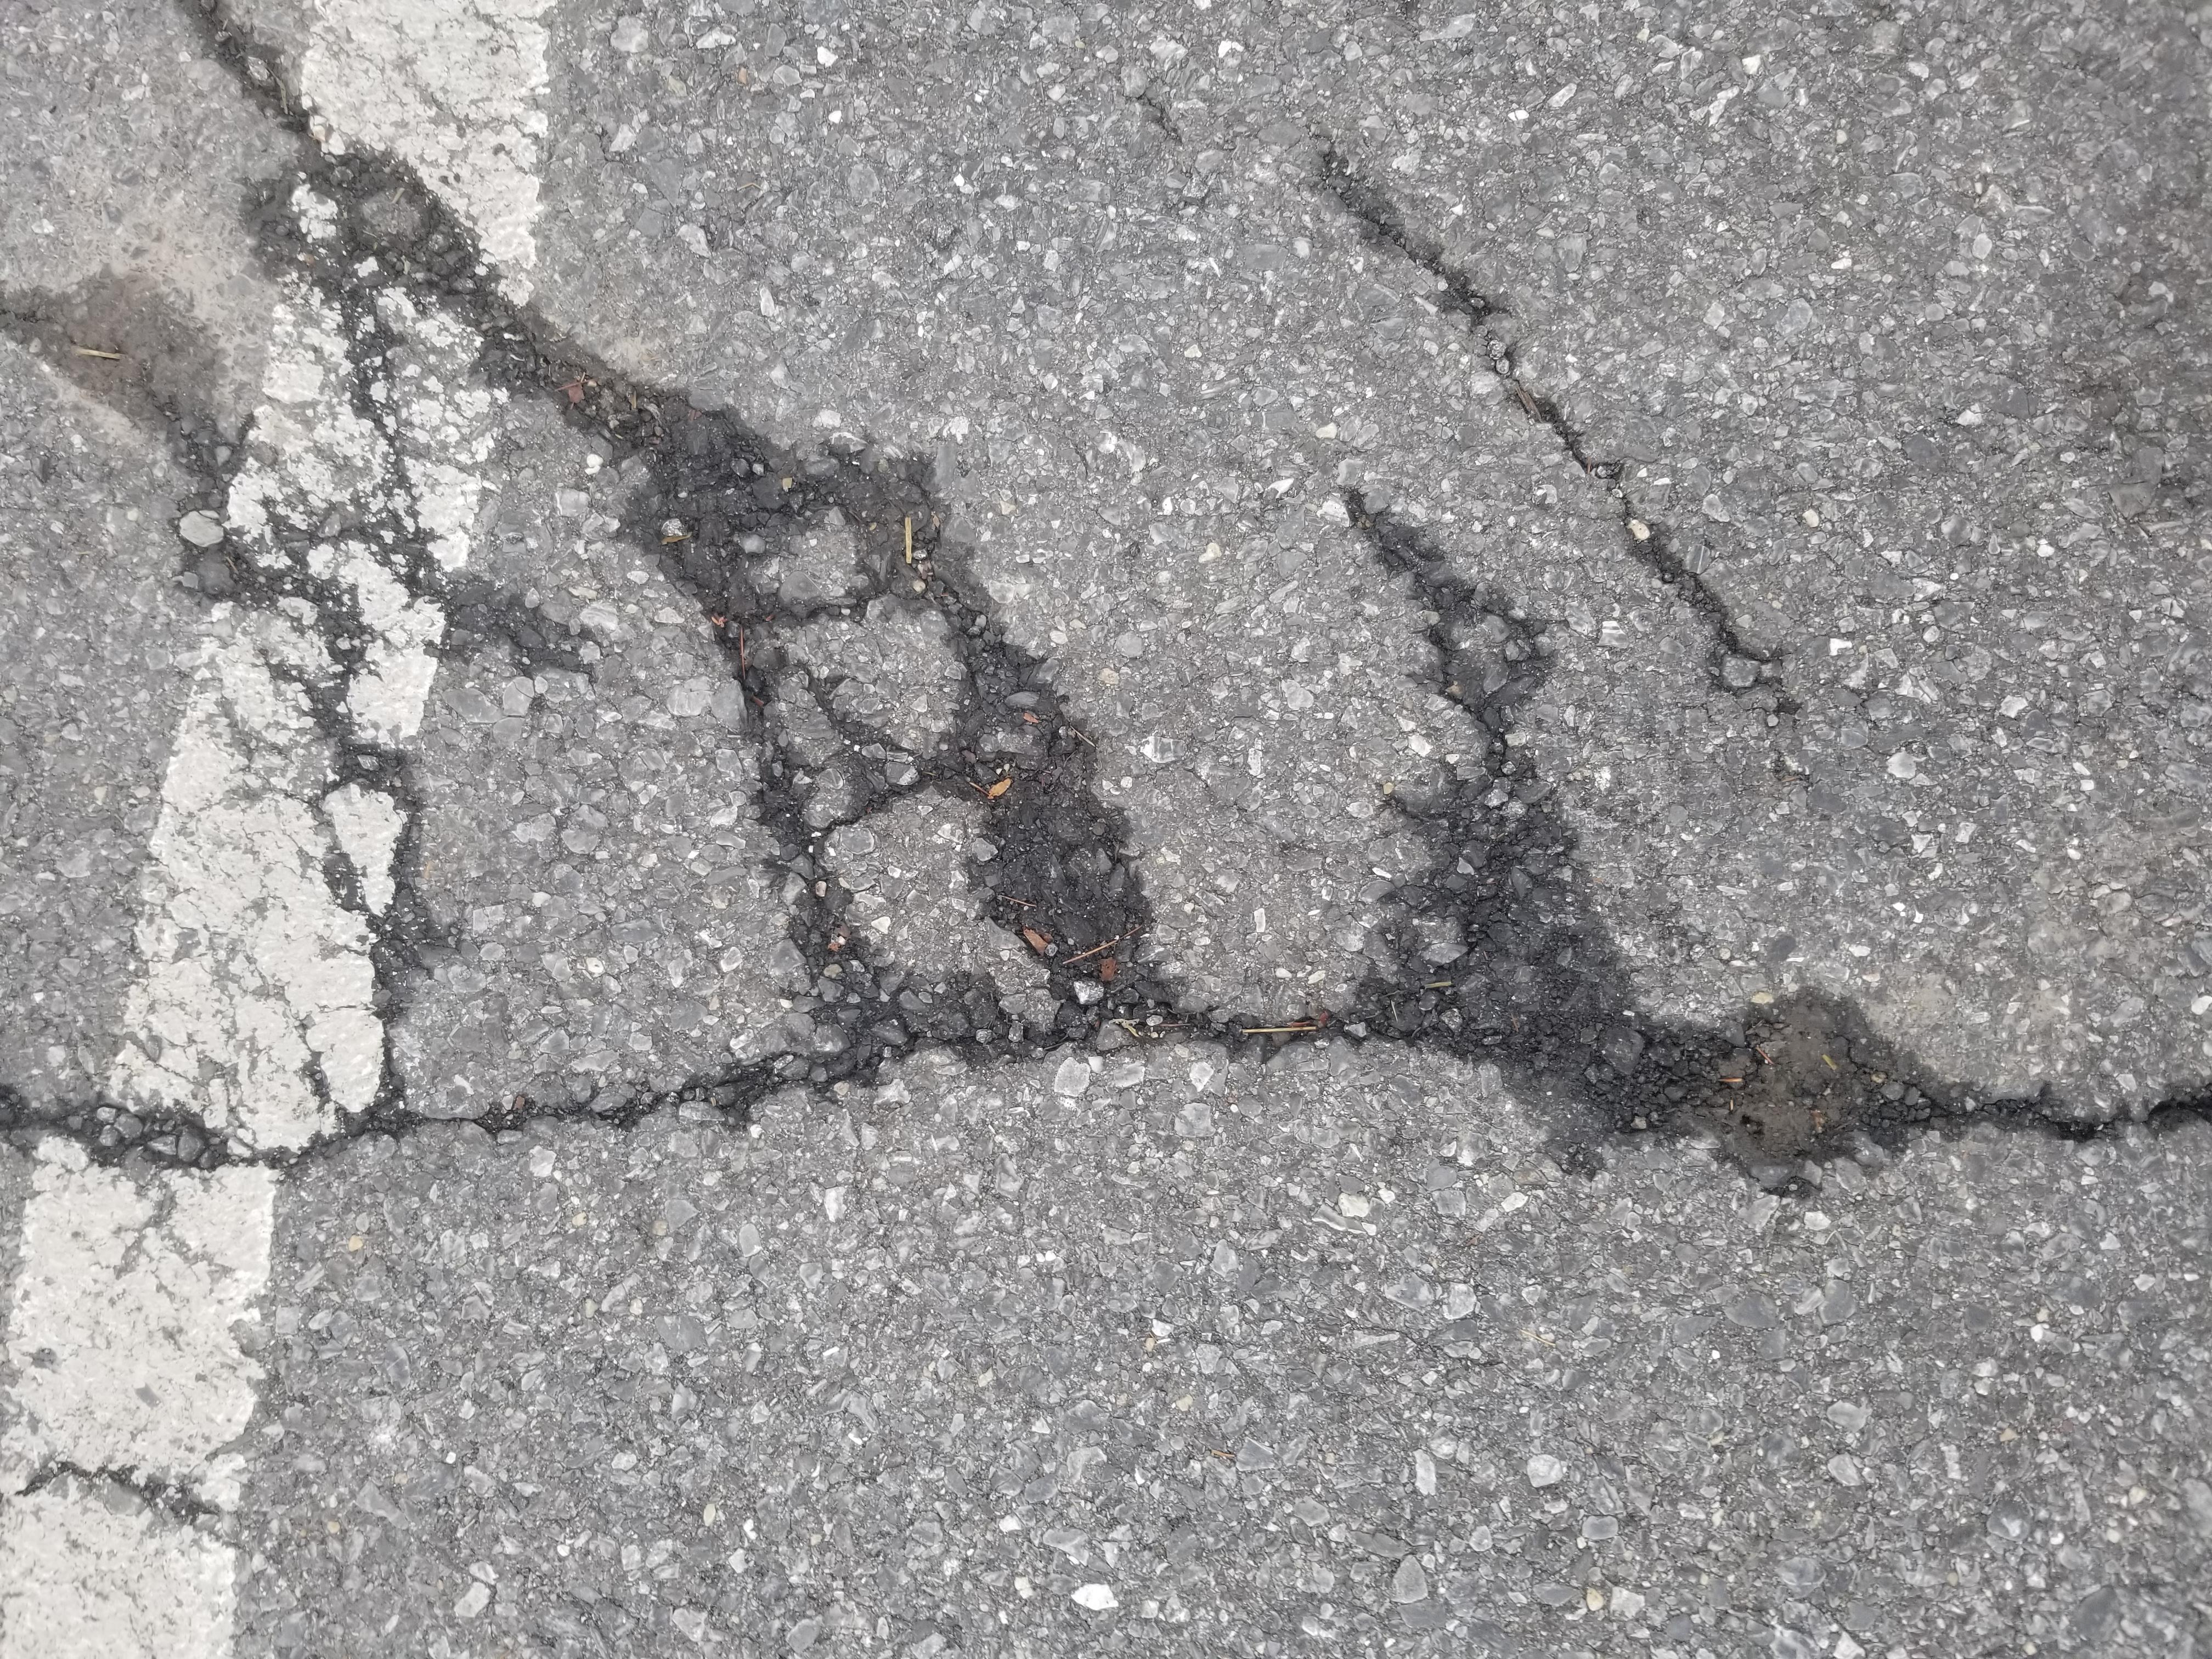alligator-crack: (911, 486, 1771, 838)
crack: (601, 9, 988, 1659), (1003, 0, 2212, 465), (1261, 955, 2064, 1364)
pothole: (502, 993, 1223, 1453)
